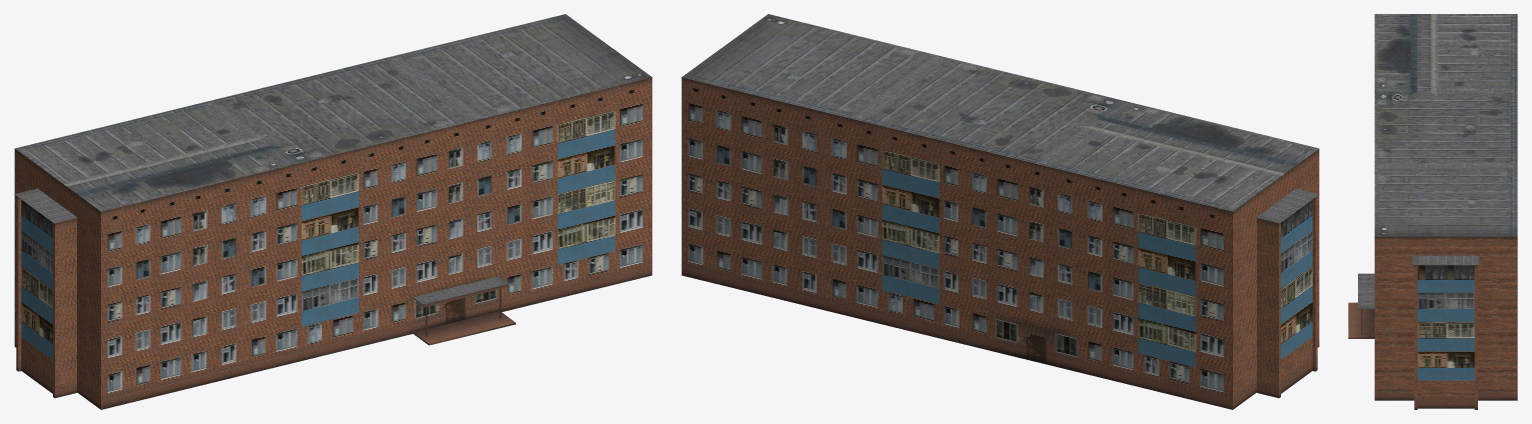
File: mediemhouse_2.fbx
3 views of the same model, side by side, from view 1: azimuth 30°, elevation 25°; view 2: azimuth 150°, elevation 25°; view 3: azimuth 270°, elevation 25° (orthographic). The views are drawn at different scales.
Parts seen in each view (by area): view 1: 9d644794-fa32-4366-ba7c-fbf7c505184f; view 2: 9d644794-fa32-4366-ba7c-fbf7c505184f; view 3: 9d644794-fa32-4366-ba7c-fbf7c505184f.
Boxes of the visible parts, box(x1,y1,x2,y2) form: 9d644794-fa32-4366-ba7c-fbf7c505184f: box(14, 14, 652, 409); 9d644794-fa32-4366-ba7c-fbf7c505184f: box(681, 14, 1319, 409); 9d644794-fa32-4366-ba7c-fbf7c505184f: box(1348, 14, 1517, 409).
Bounding box in the file's own units: 47.8 × 15.17 × 14.18.
Materials: 1 (1 with a texture image).
